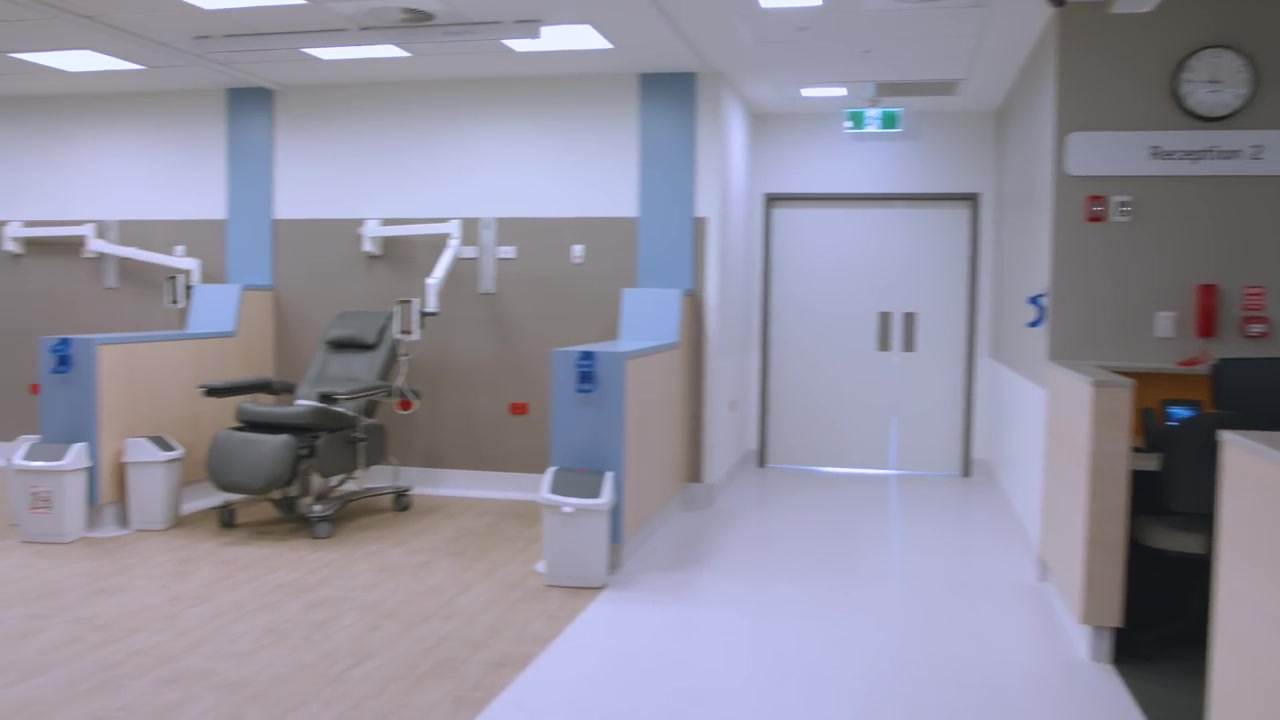computer: (1211, 358, 1280, 420)
sofa: (199, 309, 415, 541)
waste_bin: (533, 465, 618, 588), (10, 441, 93, 542), (120, 434, 186, 531)
